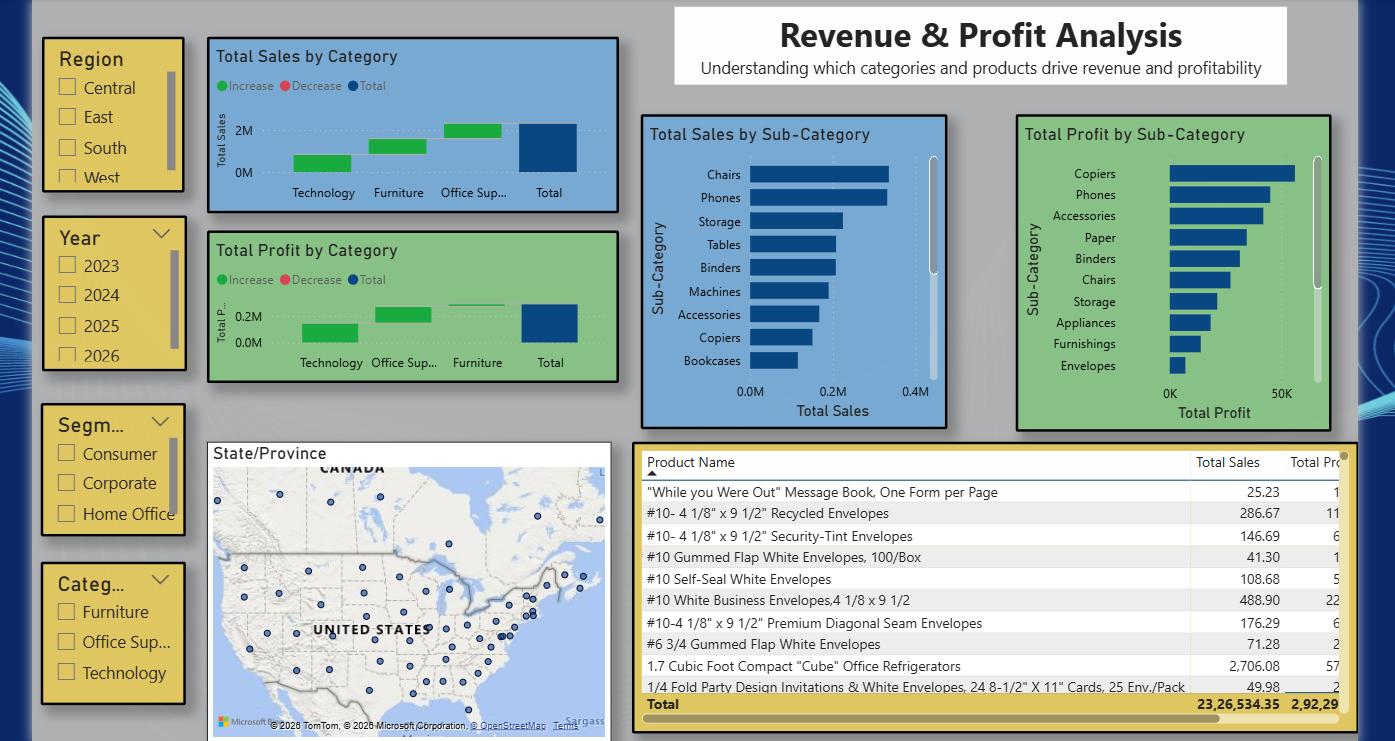

This screenshot's page, from the dashboard's own definition file:
{"tool":"powerbi","page":{"name":"Revenue & Profit Structure","canvas":[1280,720],"ordinal":1},"visuals":[{"type":"waterfallChart","fields":{"Category":["Orders.Category"],"Y":["Orders.Total Sales"]},"box":[168.8,37.5,397.5,170],"z":0},{"type":"waterfallChart","fields":{"Category":["Orders.Category"],"Y":["Orders.Total Profit"]},"box":[168.8,225,397.5,147.5],"z":1000},{"type":"barChart","fields":{"Category":["Orders.Sub-Category"],"Y":["Orders.Total Sales"]},"box":[587.5,112.5,296.2,303.8],"z":2000},{"type":"barChart","fields":{"Category":["Orders.Sub-Category"],"Y":["Orders.Total Profit"]},"box":[950,112.5,305,306.2],"z":3000},{"type":"map","fields":{"Category":["Orders.State/Province"]},"box":[168.8,428.8,390,291.2],"z":4000},{"type":"tableEx","fields":{"Values":["Orders.Product Name","Orders.Total Sales","Orders.Total Profit","Sum(Orders.Quantity)"]},"box":[578.8,428.8,701.2,281.2],"z":5000},{"type":"slicer","fields":{"Values":["People.Region"]},"box":[10,37.5,137.5,150],"z":6000},{"type":"slicer","fields":{"Values":["Orders.Segment"]},"box":[8.8,391.2,140,128.8],"z":7000},{"type":"slicer","fields":{"Values":["Orders.Category"]},"box":[8.8,543.8,140,138.8],"z":8000},{"type":"slicer","fields":{"Values":["Calendar.Year"]},"box":[10,210,140,150],"z":9000},{"type":"textbox","box":[620,8.8,591.2,75],"z":10000}]}

Visuals, with their boxes in screenshot pixels (x1, y1, x2, y2):
waterfallChart - Orders.Category x Orders.Total Sales: crop(203, 29, 621, 207)
waterfallChart - Orders.Category x Orders.Total Profit: crop(203, 226, 621, 381)
barChart - Orders.Sub-Category x Orders.Total Sales: crop(644, 107, 955, 427)
barChart - Orders.Sub-Category x Orders.Total Profit: crop(1025, 107, 1346, 430)
map - Orders.State/Province: crop(203, 440, 613, 740)
tableEx - Orders.Product Name x Orders.Total Sales: crop(635, 440, 1372, 736)
slicer - People.Region: crop(36, 29, 181, 186)
slicer - Orders.Segment: crop(35, 401, 182, 536)
slicer - Orders.Category: crop(35, 561, 182, 707)
slicer - Calendar.Year: crop(36, 210, 183, 368)
textbox: crop(678, 0, 1300, 77)
